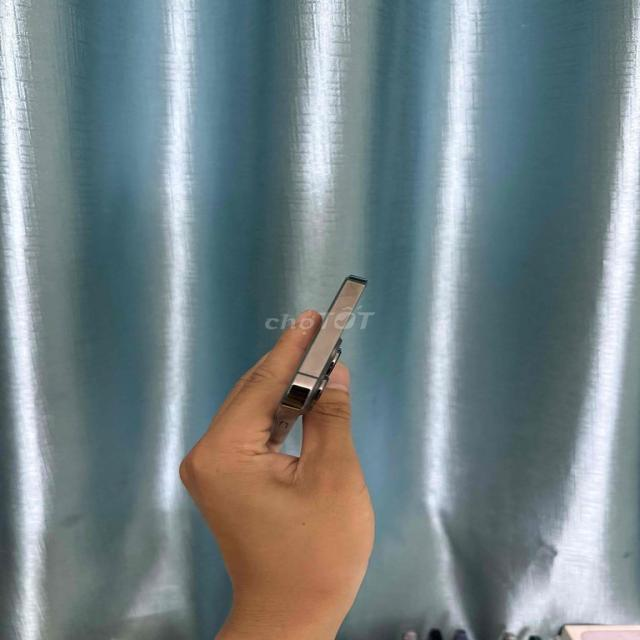gen_12_13: (272, 266, 381, 460)
